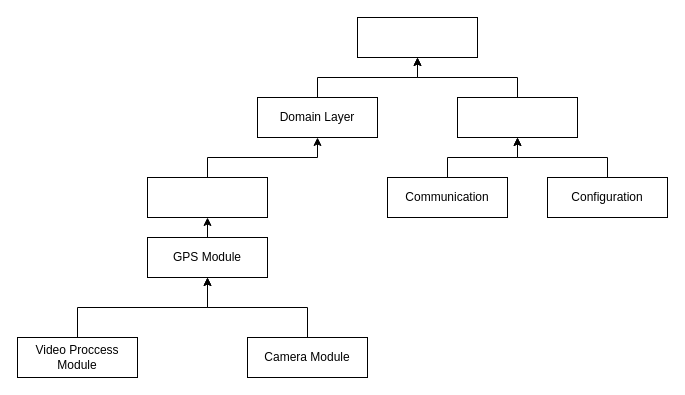
Image size: 685x395. Some labels were removed from this diagram. Here are the shapes that lost their labels. From the top down, the centre of each, then its label:
At pixel 417 37: "RP".
At pixel 517 117: "Service Layer".
At pixel 207 197: "Alert Module".
